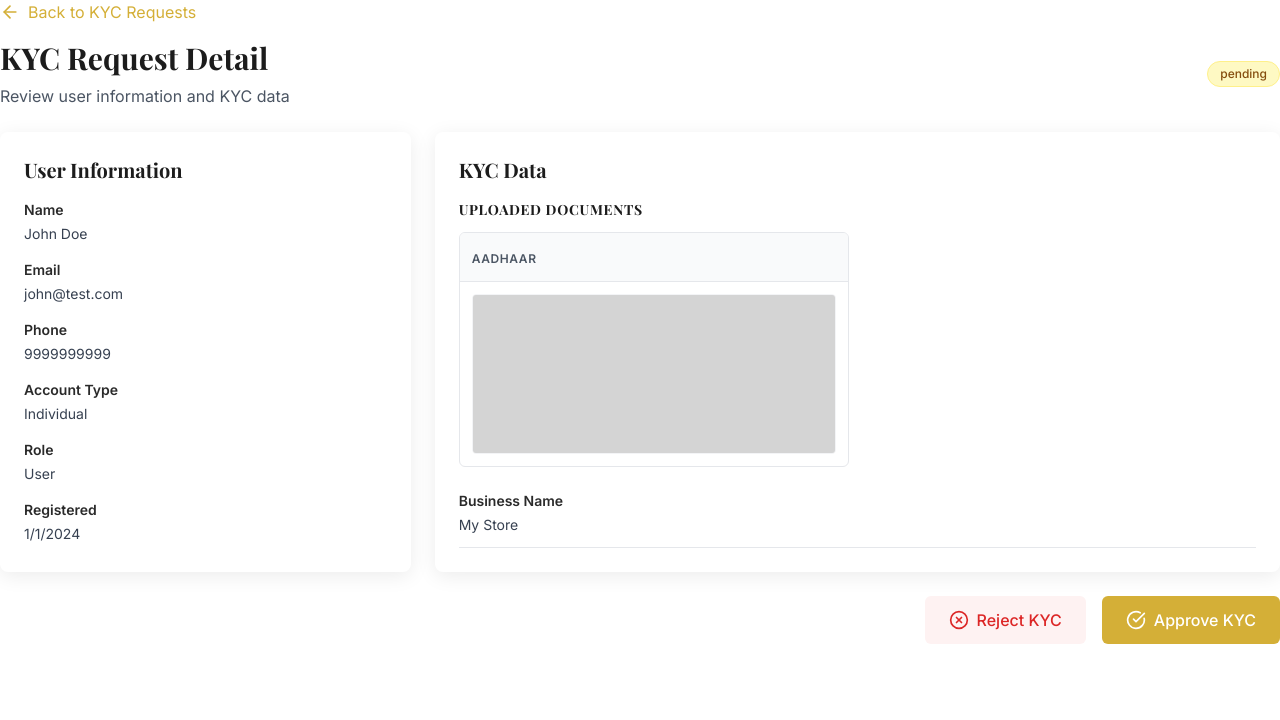
KYCDetail › shows success message after approval
The image size is (1280, 720).
Step 1. Click the button "Approve KYC" → (1191, 620), box [1102,596,1279,644]
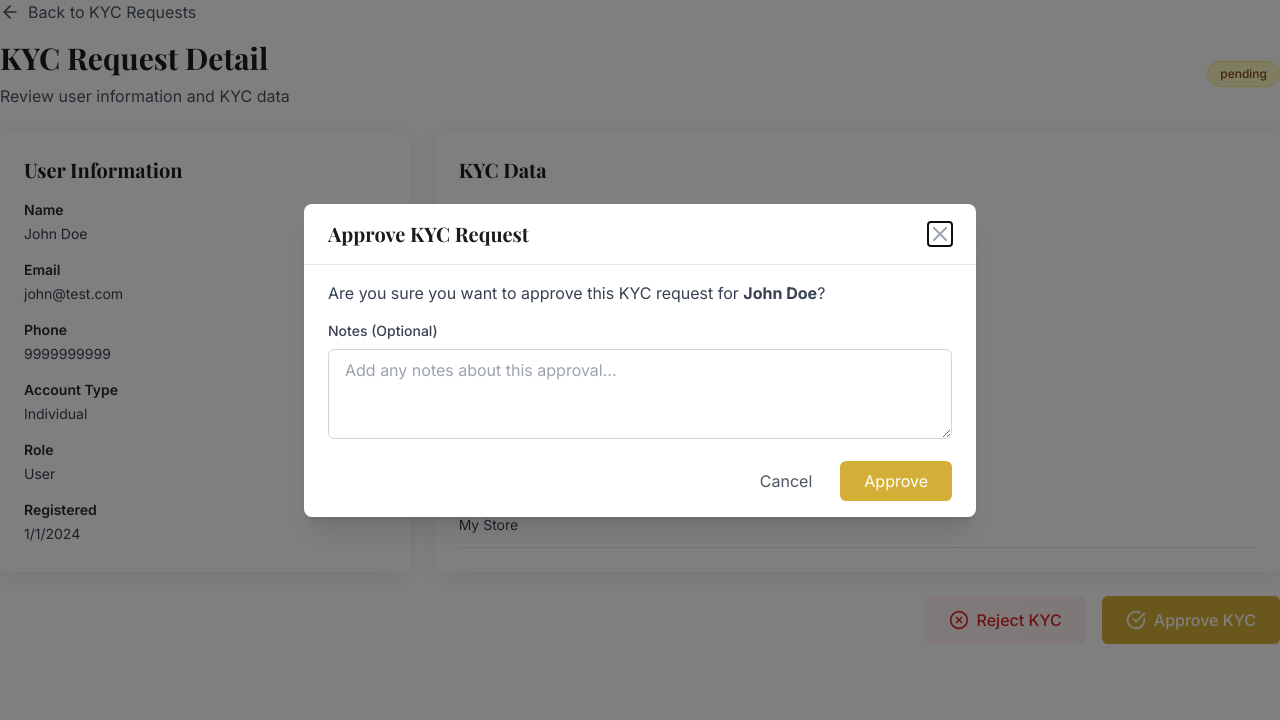
Step 2. Click the button "Approve" → (896, 480), box [840,460,952,500]
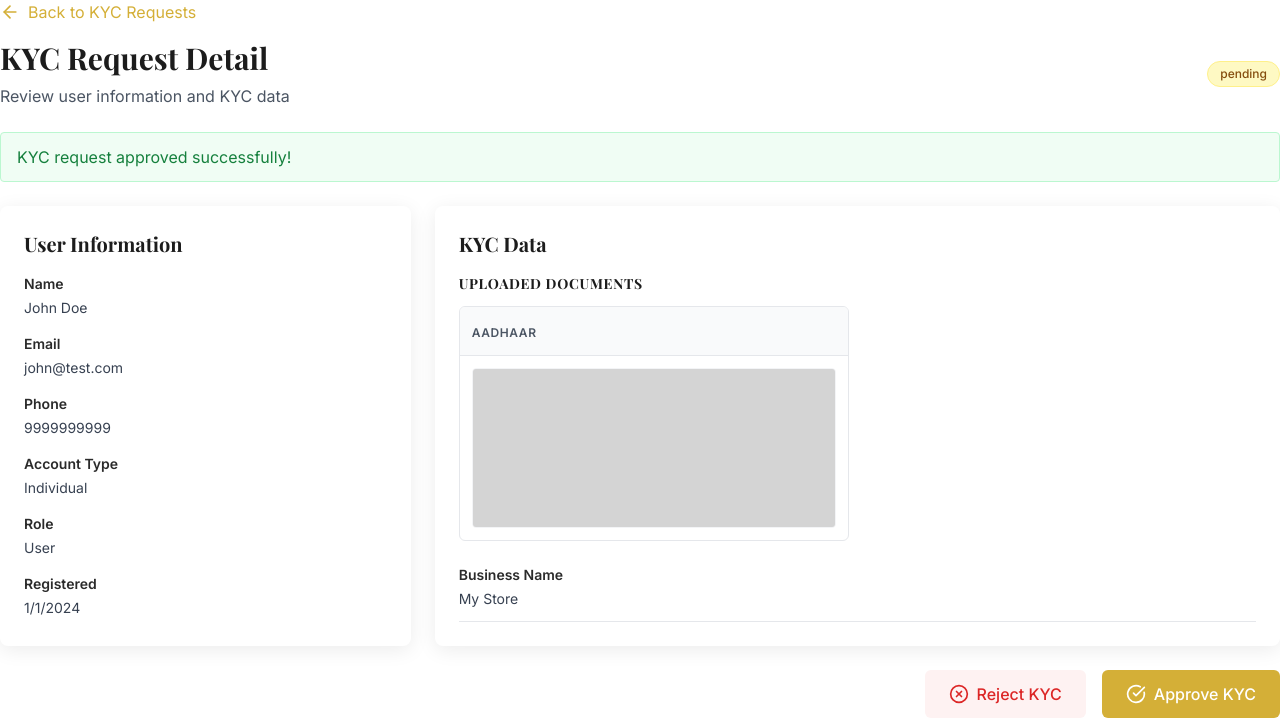
Now the text "KYC request approved successfully!" is shown, box [0,132,1279,182]
